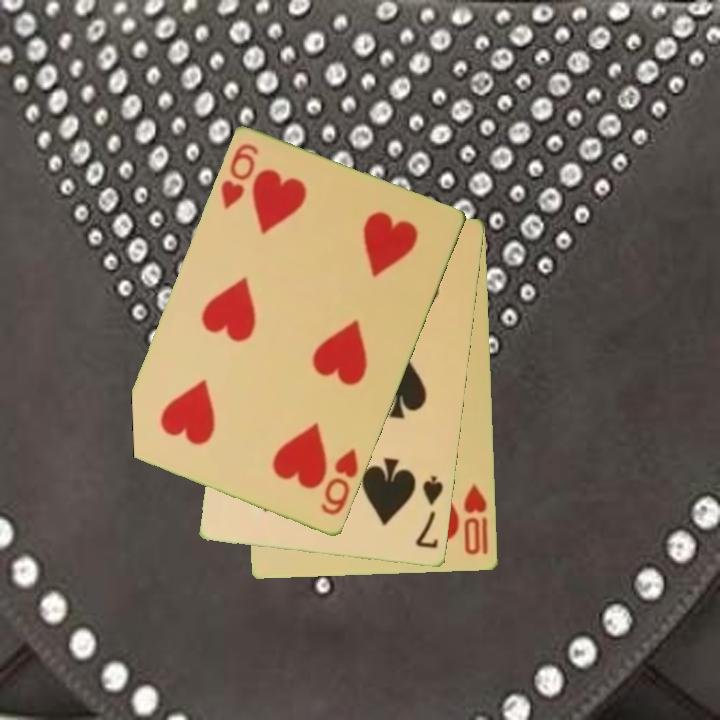10h: (460, 481, 491, 559)
6h: (317, 445, 362, 519), (217, 140, 262, 213)
7s: (412, 472, 447, 552)
